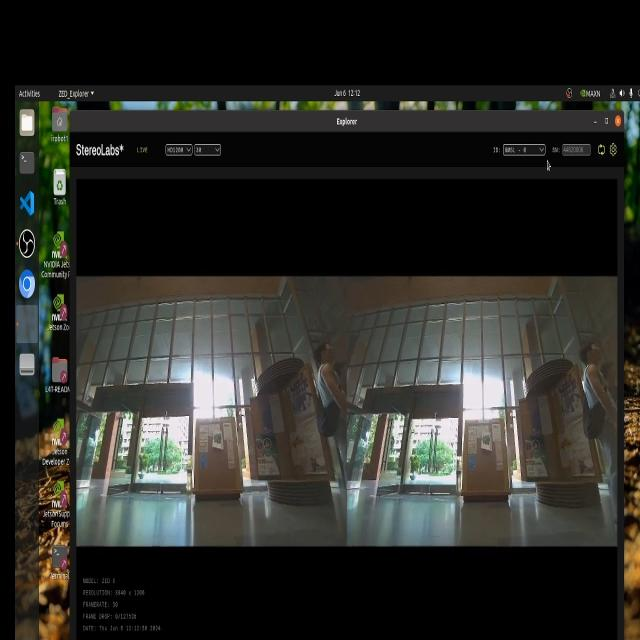green: (476, 428, 490, 458), (214, 429, 224, 451)
